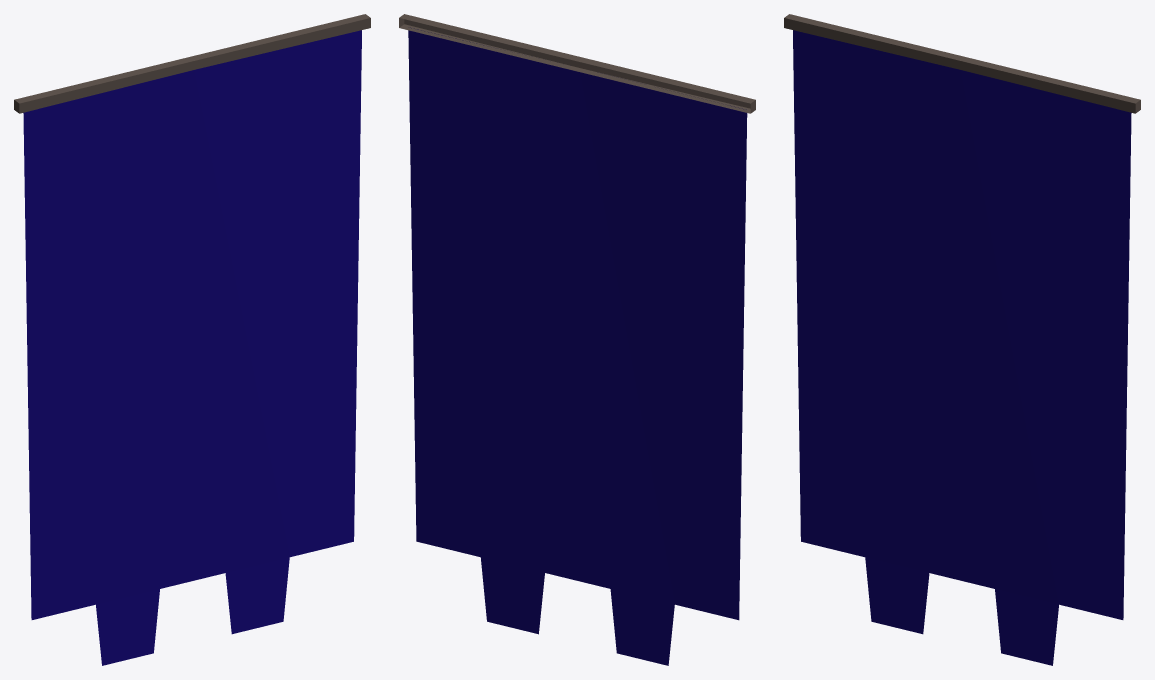
File: Banne_Square.FBX
The picture shows the model from 3 angles, left to right: view 1: azimuth 30°, elevation 25°; view 2: azimuth 150°, elevation 25°; view 3: azimuth 330°, elevation 25°; orthographic projection.
Parts seen in each view (by area): view 1: Object005; view 2: Object005; view 3: Object005.
Part boxes in pixels (<box>): Object005: <box>14,14,370,665</box>; Object005: <box>399,14,755,665</box>; Object005: <box>784,14,1140,665</box>.
Bounding box in the file's own units: 272 × 432 × 7.11.
